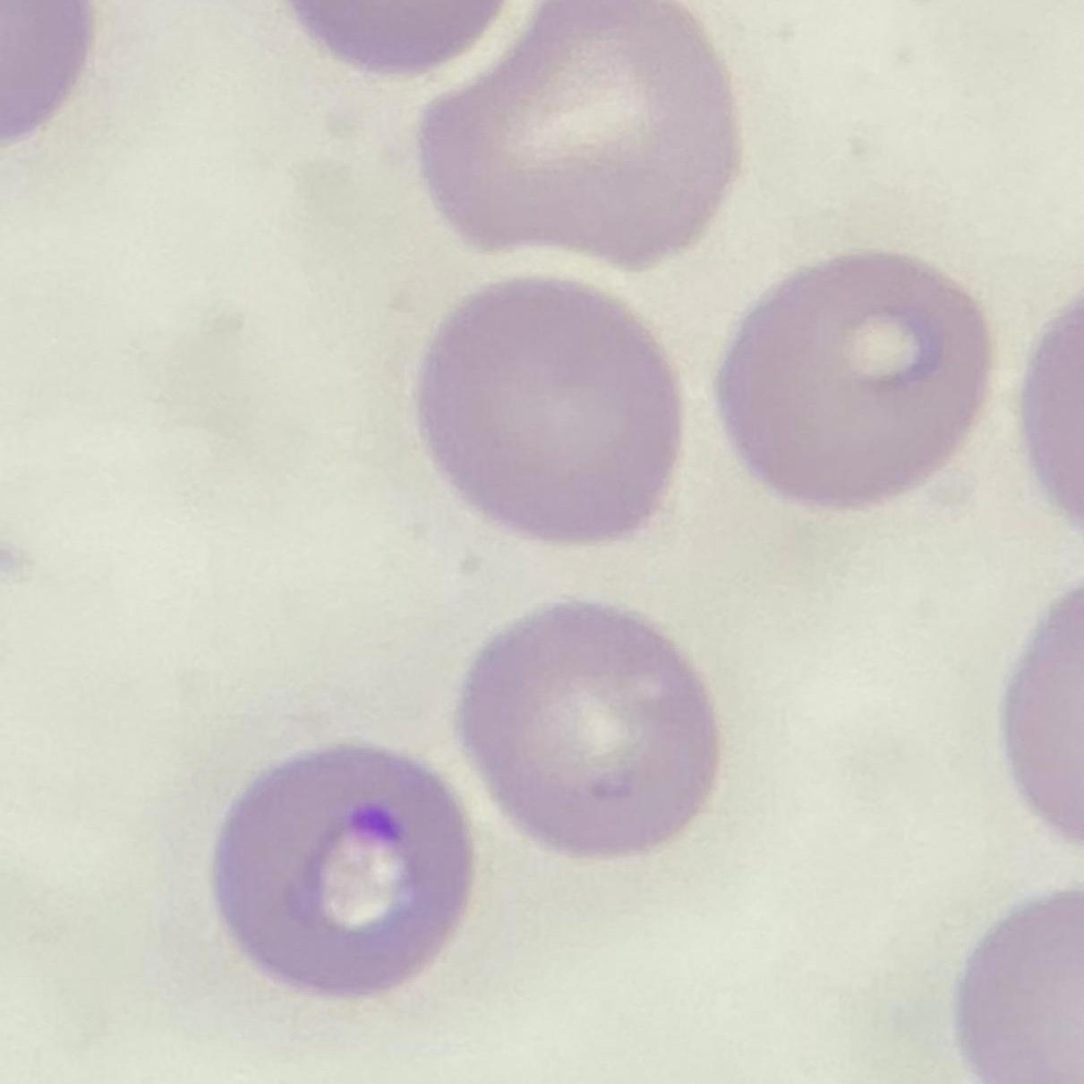Infected: (215, 746, 474, 995)
Uninfected: (414, 0, 741, 270), (421, 282, 691, 544), (721, 251, 988, 514), (459, 602, 718, 861)
